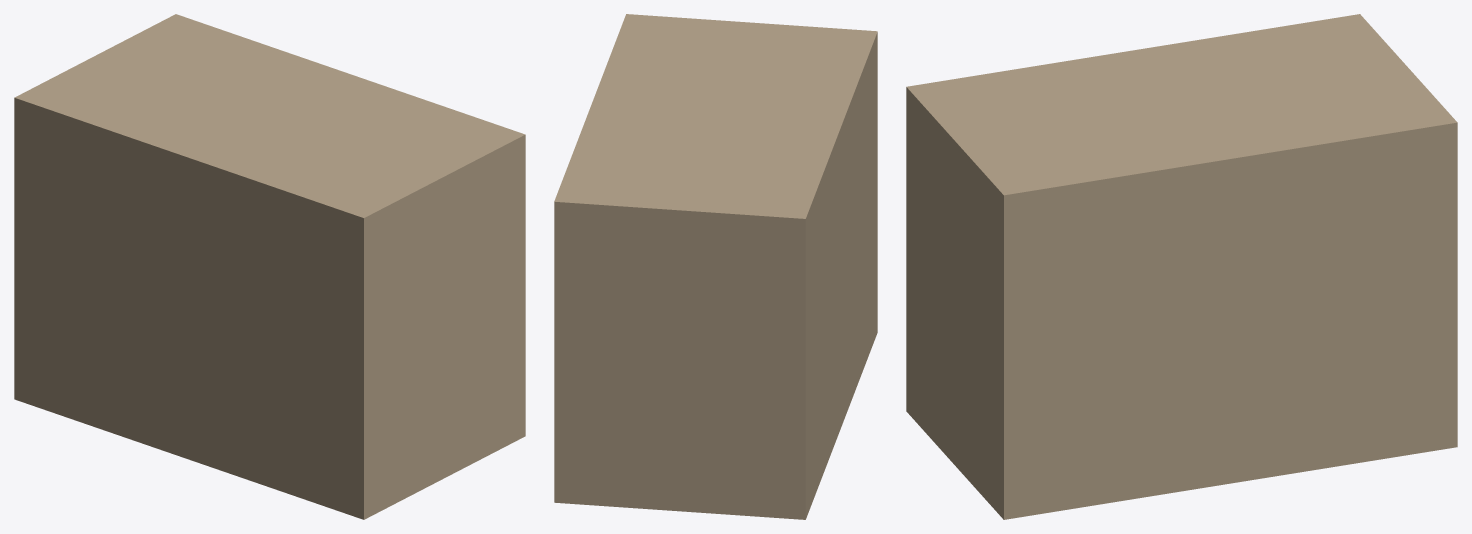
File: bld_107610535.dae
3 views of the same model, side by side, from view 1: azimuth 30°, elevation 25°; view 2: azimuth 150°, elevation 25°; view 3: azimuth 270°, elevation 25° (orthographic). The views are drawn at different scales.
Parts seen in each view (by area): view 1: bld_107610535; view 2: bld_107610535; view 3: bld_107610535.
Boxes of the visible parts, x1,y1,x2,y2 form: bld_107610535: (14, 14, 525, 519); bld_107610535: (554, 14, 877, 519); bld_107610535: (906, 14, 1457, 519).
Bounding box in the file's own units: 9.59 × 12.31 × 8.
